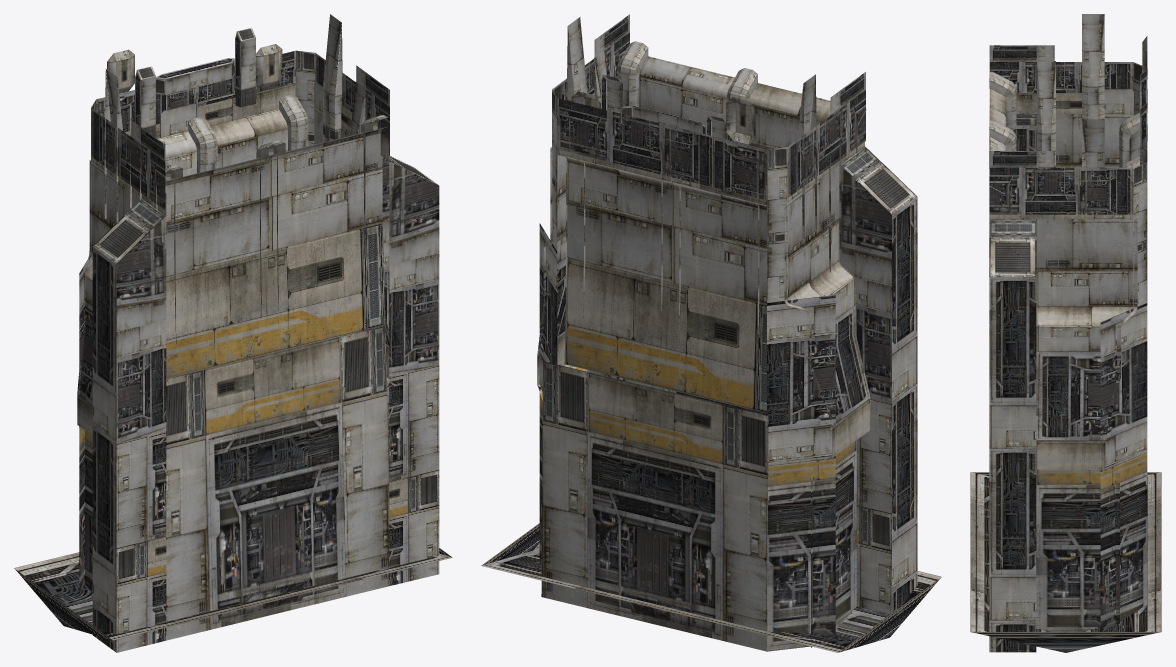
Rendered from STR_WallsPitWide.FBX.
The picture shows the model from 3 angles, left to right: view 1: azimuth 30°, elevation 25°; view 2: azimuth 150°, elevation 25°; view 3: azimuth 270°, elevation 25°; orthographic projection. The views are drawn at different scales.
Parts seen in each view (by area): view 1: STR_WallsPitWide; view 2: STR_WallsPitWide; view 3: STR_WallsPitWide.
Boxes of the visible parts, x1,y1,x2,y2 form: STR_WallsPitWide: (14, 14, 452, 652); STR_WallsPitWide: (481, 14, 941, 652); STR_WallsPitWide: (970, 14, 1161, 652).
Bounding box in the file's own units: 4083 × 6069 × 2063.
